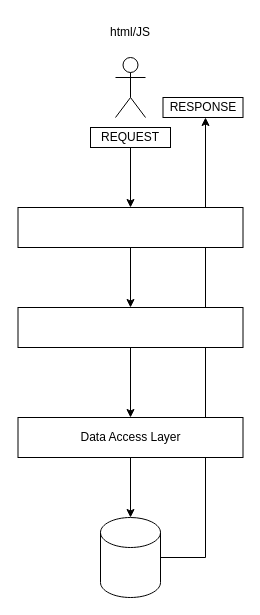
The diagram is 260 pixels wide and 615 high, and some of its shapes have lost their labels. The box of each missing label's shape, as (x1, y1, x2, y2) in pixels:
API Layer: (17, 206, 243, 248)
Service Layer: (17, 306, 243, 348)
